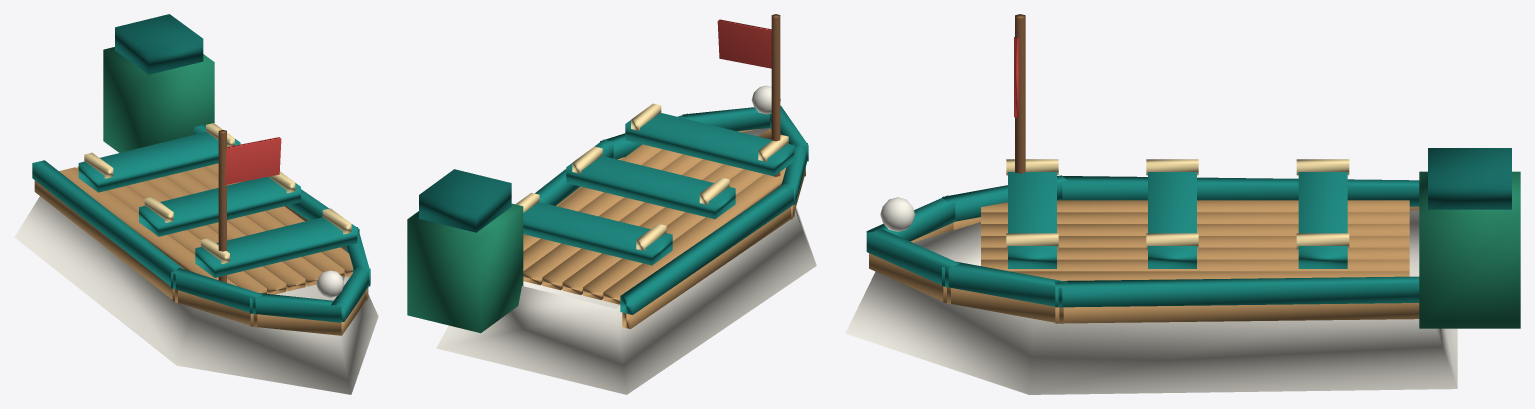
Rendered from boat.glb.
3 views of the same model, side by side, from view 1: azimuth 30°, elevation 25°; view 2: azimuth 150°, elevation 25°; view 3: azimuth 270°, elevation 25° (orthographic). The views are drawn at different scales.
Parts seen in each view (by area): view 1: Nowsome teal, Boat ivory, Honey wood, Motor green, Deep teal, Flag red, Sunlit sand, Dark wood; view 2: Boat ivory, Nowsome teal, Honey wood, Motor green, Deep teal, Sunlit sand, Flag red, Dark wood; view 3: Boat ivory, Nowsome teal, Honey wood, Motor green, Deep teal, Sunlit sand, Dark wood.
Part boxes in pixels (x1=…): Nowsome teal: x1=32, y1=124, x2=370, y2=322; Boat ivory: x1=14, y1=196, x2=378, y2=394; Honey wood: x1=34, y1=163, x2=368, y2=335; Motor green: x1=103, y1=47, x2=214, y2=152; Deep teal: x1=115, y1=14, x2=203, y2=74; Flag red: x1=224, y1=137, x2=281, y2=184; Sunlit sand: x1=84, y1=123, x2=351, y2=263; Dark wood: x1=218, y1=130, x2=226, y2=282; Boat ivory: x1=436, y1=85, x2=816, y2=394; Nowsome teal: x1=523, y1=105, x2=808, y2=314; Honey wood: x1=523, y1=129, x2=805, y2=328; Motor green: x1=407, y1=203, x2=523, y2=333; Deep teal: x1=419, y1=169, x2=511, y2=232; Sunlit sand: x1=516, y1=103, x2=788, y2=250; Flag red: x1=717, y1=19, x2=771, y2=68; Dark wood: x1=771, y1=14, x2=780, y2=176; Boat ivory: x1=845, y1=197, x2=1457, y2=394; Nowsome teal: x1=866, y1=172, x2=1419, y2=307; Honey wood: x1=869, y1=200, x2=1419, y2=323; Motor green: x1=1419, y1=171, x2=1520, y2=328; Deep teal: x1=1428, y1=148, x2=1511, y2=209; Sunlit sand: x1=1006, y1=159, x2=1349, y2=249; Dark wood: x1=1015, y1=14, x2=1025, y2=173.
Bounding box in the file's own units: 1.66 × 1.78 × 3.86.
